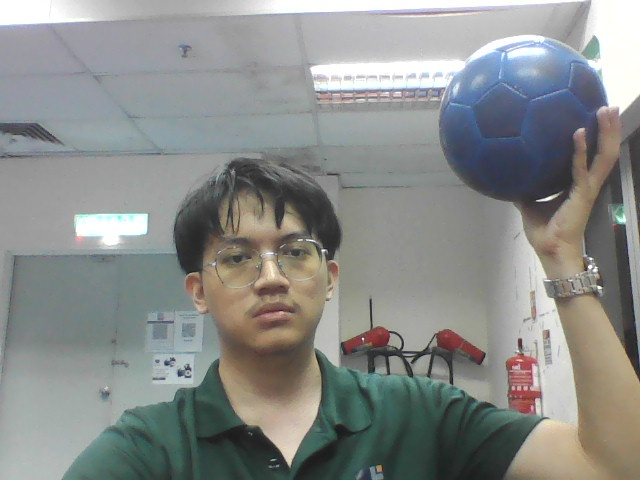Blue: (438, 35, 608, 201)
